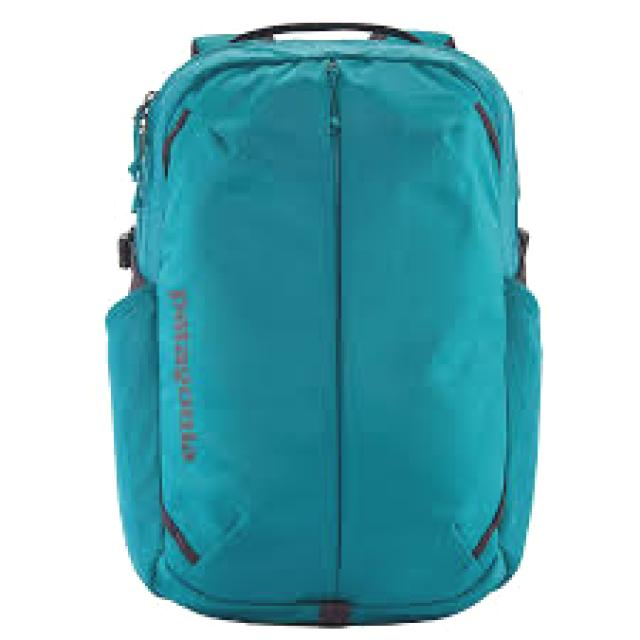backpack: (104, 21, 545, 627)
